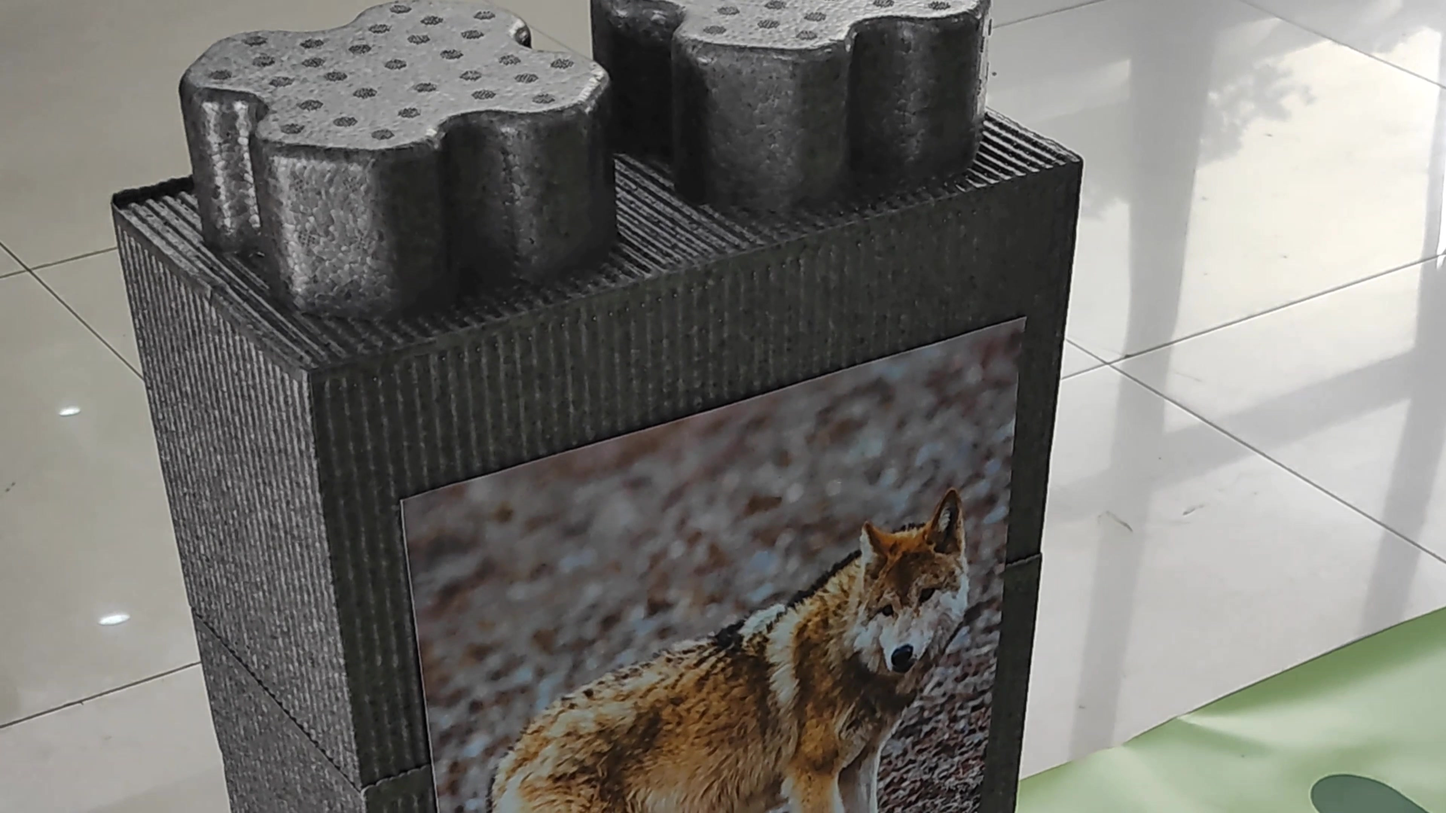wolf: (465, 460, 1005, 813)
